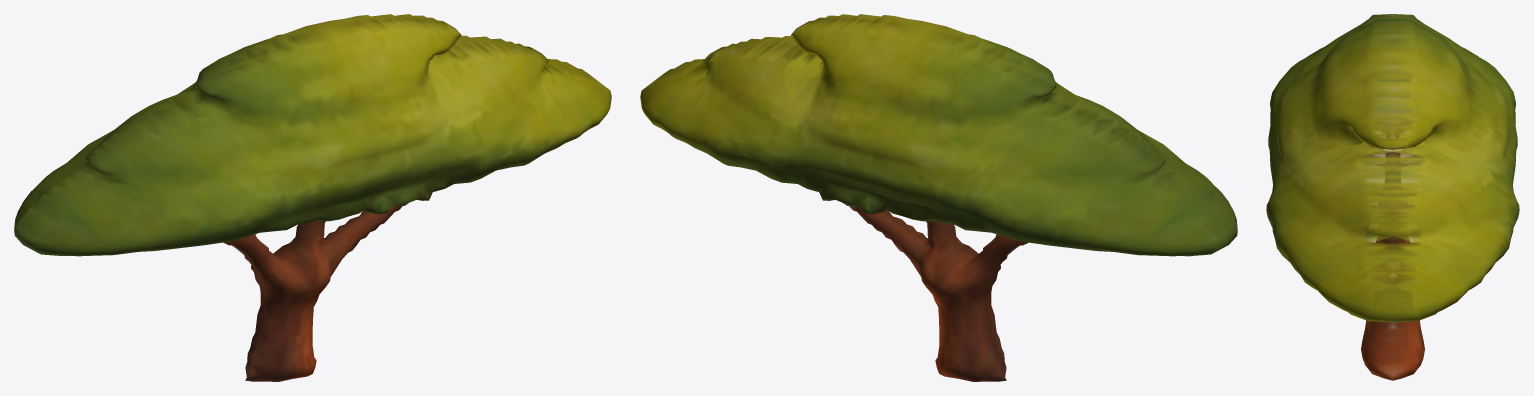
The model's file is 02_acacia_trees_r02_c03.glb.
3 views of the same model, side by side, from view 1: azimuth 30°, elevation 25°; view 2: azimuth 150°, elevation 25°; view 3: azimuth 270°, elevation 25° (orthographic).
Visible parts, largest first — view 1: 02_acacia_trees_r02_c03; view 2: 02_acacia_trees_r02_c03; view 3: 02_acacia_trees_r02_c03.
Boxes of the visible parts, box(x1,y1,x2,y2) form: 02_acacia_trees_r02_c03: box(14, 14, 611, 381); 02_acacia_trees_r02_c03: box(640, 14, 1237, 381); 02_acacia_trees_r02_c03: box(1266, 14, 1519, 380).
Bounding box in the file's own units: 2.48 × 1.36 × 0.9304.
Materials: 1 (1 with a texture image).
